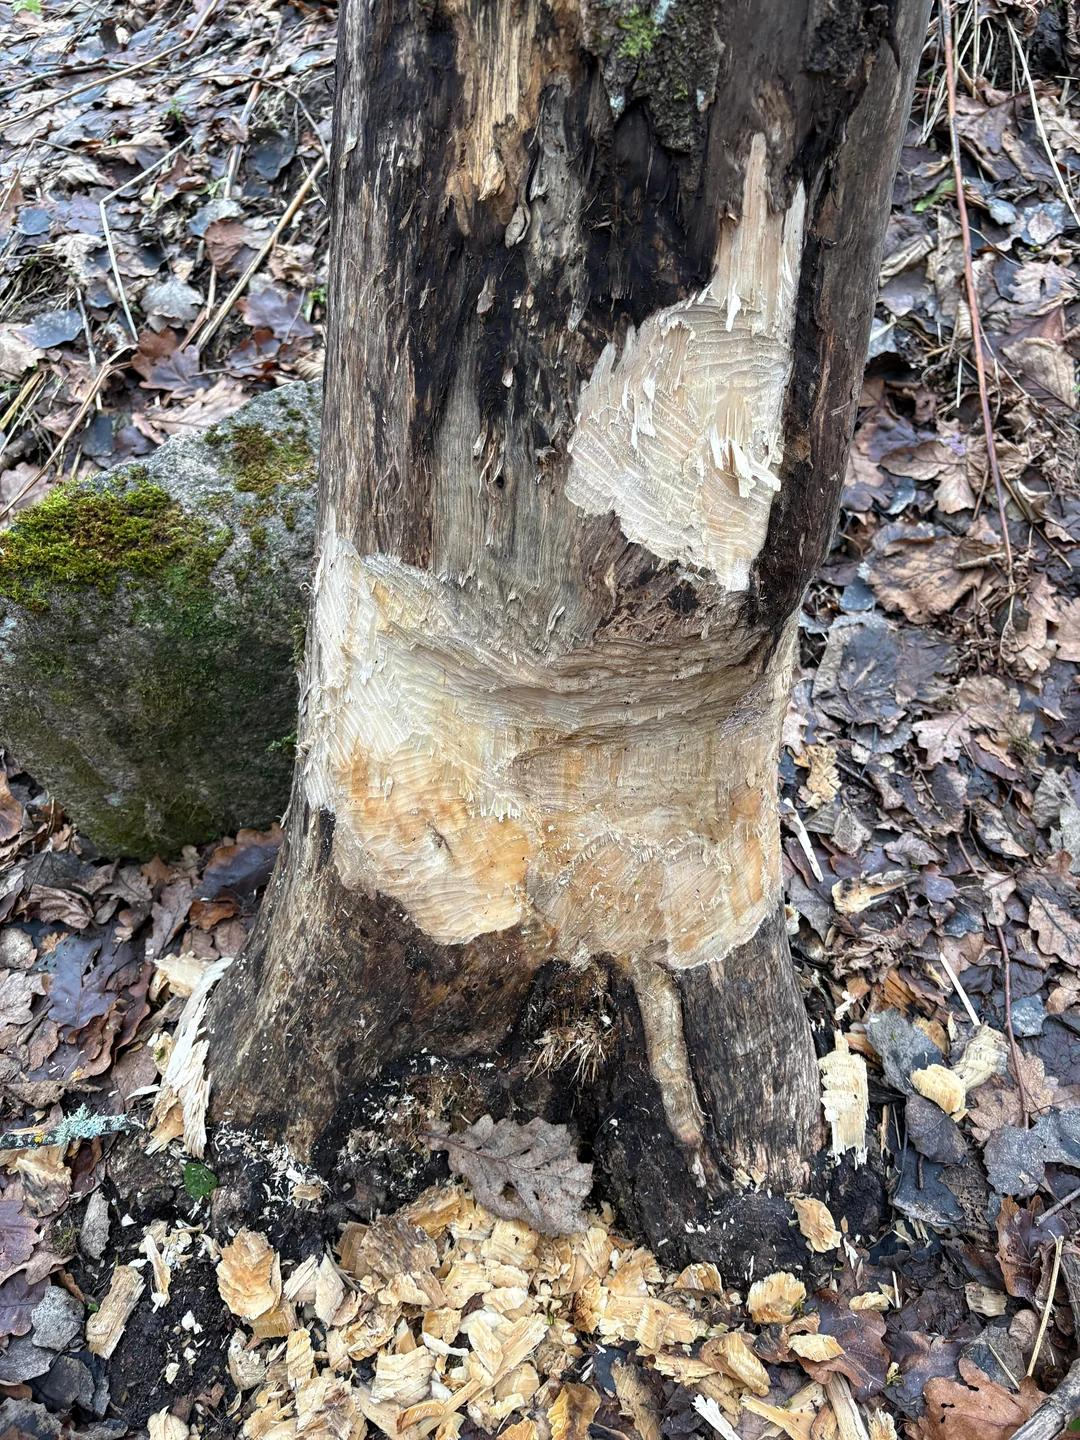mechanical damage: (303, 150, 804, 969), (566, 137, 804, 591)
